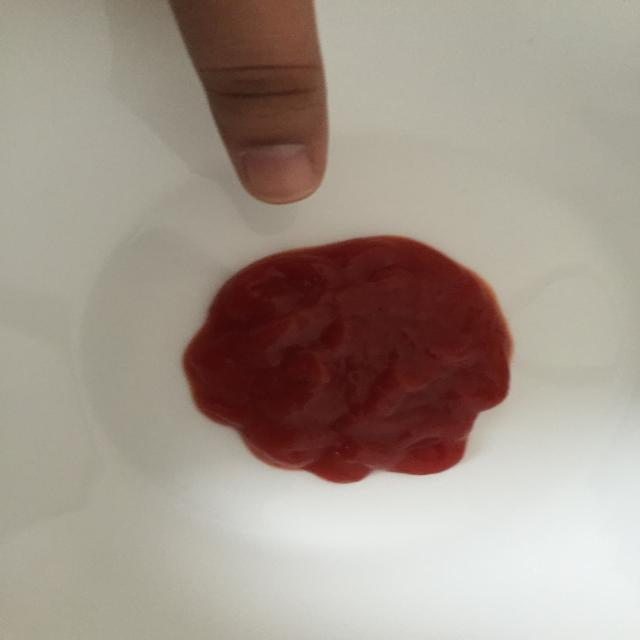sauce: (181, 233, 514, 484)
